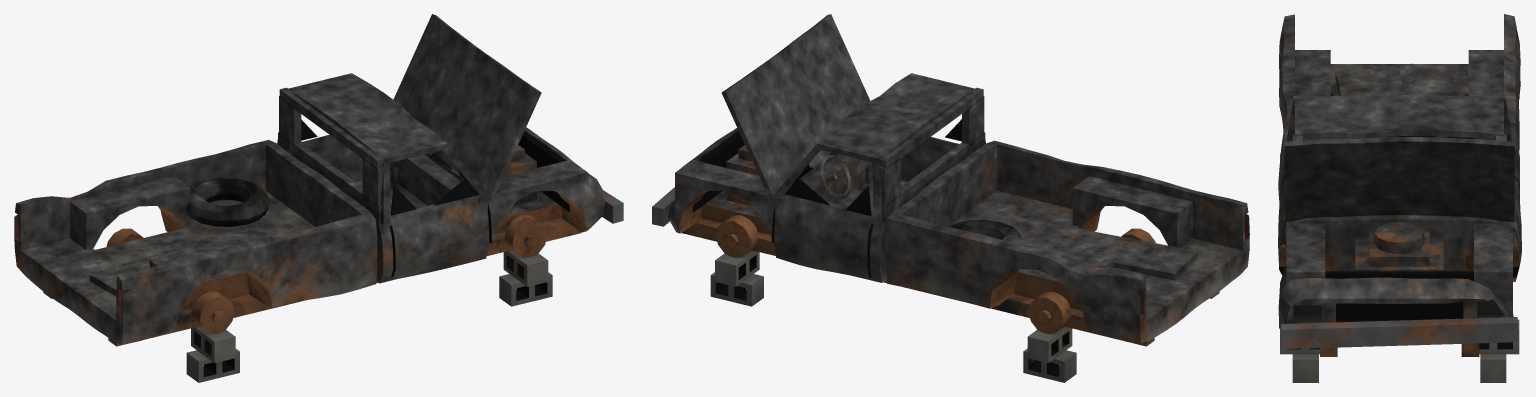
The model's file is ScrapPickup.fbx.
3 views of the same model, side by side, from view 1: azimuth 30°, elevation 25°; view 2: azimuth 150°, elevation 25°; view 3: azimuth 270°, elevation 25° (orthographic). The views are drawn at different scales.
Parts seen in each view (by area): view 1: ScrapPickup; view 2: ScrapPickup; view 3: ScrapPickup.
Part boxes in pixels (box(x1,y1,x2,y2)): ScrapPickup: box(14, 14, 623, 382); ScrapPickup: box(652, 14, 1249, 382); ScrapPickup: box(1278, 14, 1521, 382).
Size of the model in its own units: 17.8 by 7.29 by 6.89.
1 material, 1 textured.
